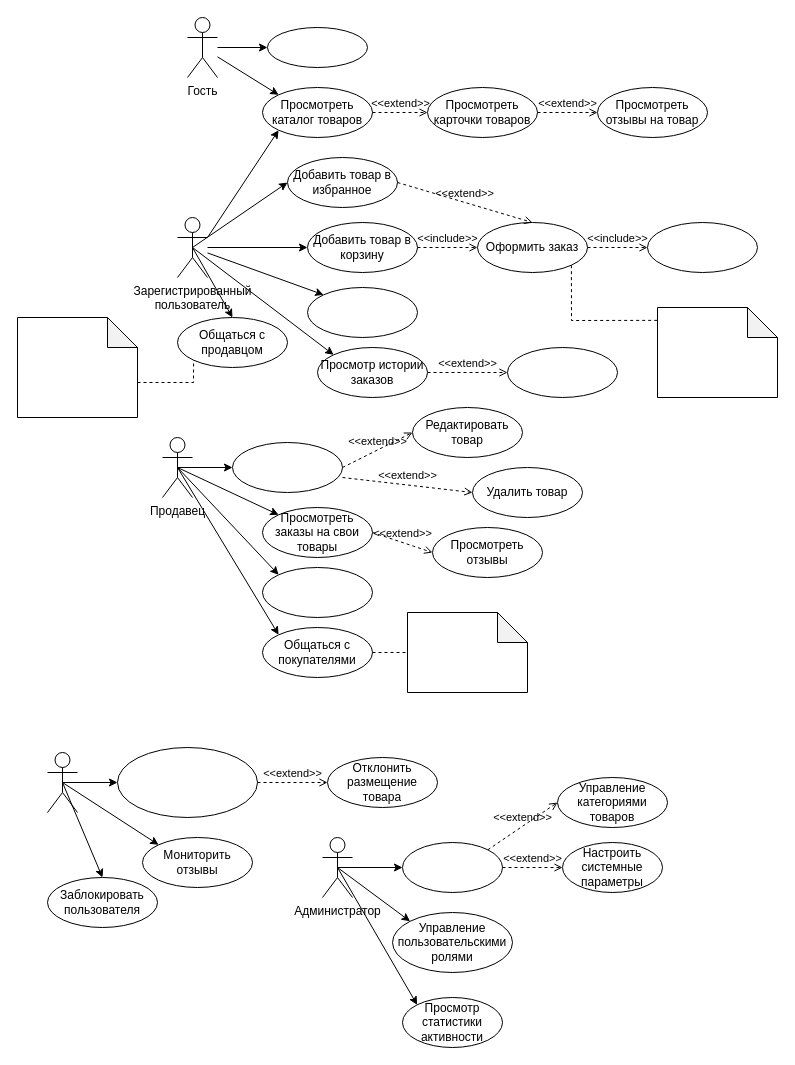
This 795x1065 diagram has some shape labels left out. The shapes that lost their labels are listed below. From the top down, each one's centre as x and y in pixels, then its label:
At (317,47): "Авторизоваться".
At (702,247): "Оплатить заказ".
At (362,312): "Редактировать профиль".
At (77,367): "Вначале проверяется был ли выполнен или оформлен заказ".
At (562,372): "Оставить отзыв".
At (717,352): "Вначале проверяется наличие товара на складе".
At (287,467): "Добавить товар".
At (317,592): "Управлять финансами".
At (467,652): "Посте того как покупатель оформит заказ".
At (62,782): "Модератор".
At (187,782): "Проверить карточку товара, выложенную продавцом".
At (452,867): "Провести технические работы".
